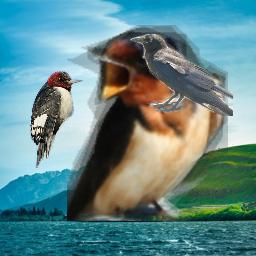Crow: (130, 34, 233, 116)
Swallow: (67, 25, 228, 221)
Woodpecker: (30, 71, 83, 168)
